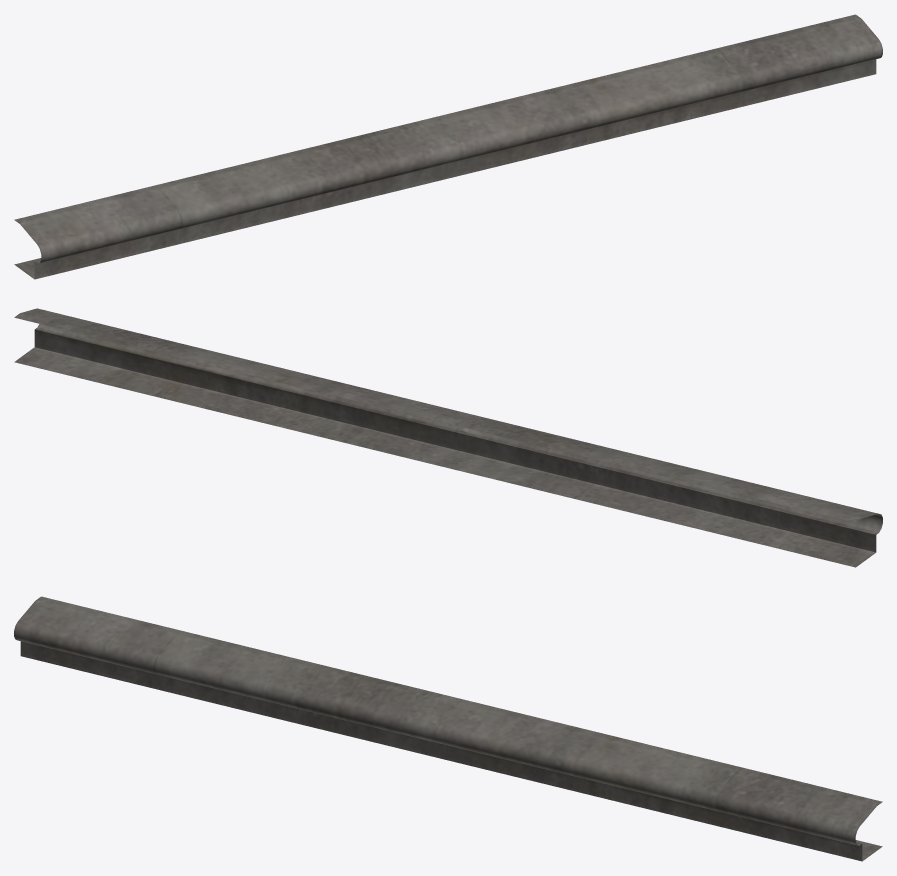
Rendered from factory-cornice.glb.
3 renders of one model, top to bottom at view 1: azimuth 30°, elevation 25°; view 2: azimuth 150°, elevation 25°; view 3: azimuth 330°, elevation 25°, orthographic.
Parts seen in each view (by area): view 1: cornice01_standard_standard_01; view 2: cornice01_standard_standard_01; view 3: cornice01_standard_standard_01.
Boxes of the visible parts, x1=… form: cornice01_standard_standard_01: x1=14, y1=14, x2=882, y2=279; cornice01_standard_standard_01: x1=14, y1=308, x2=882, y2=567; cornice01_standard_standard_01: x1=14, y1=596, x2=882, y2=861.
Bounding box in the file's own units: 3 × 0.152 × 0.1682.
Materials: 1 (1 with a texture image).
